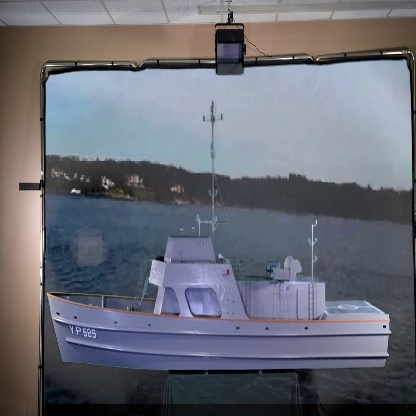YP689: (46, 86, 393, 380)
